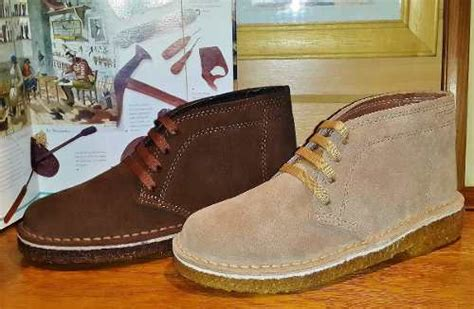gamuza: (21, 81, 463, 276)
